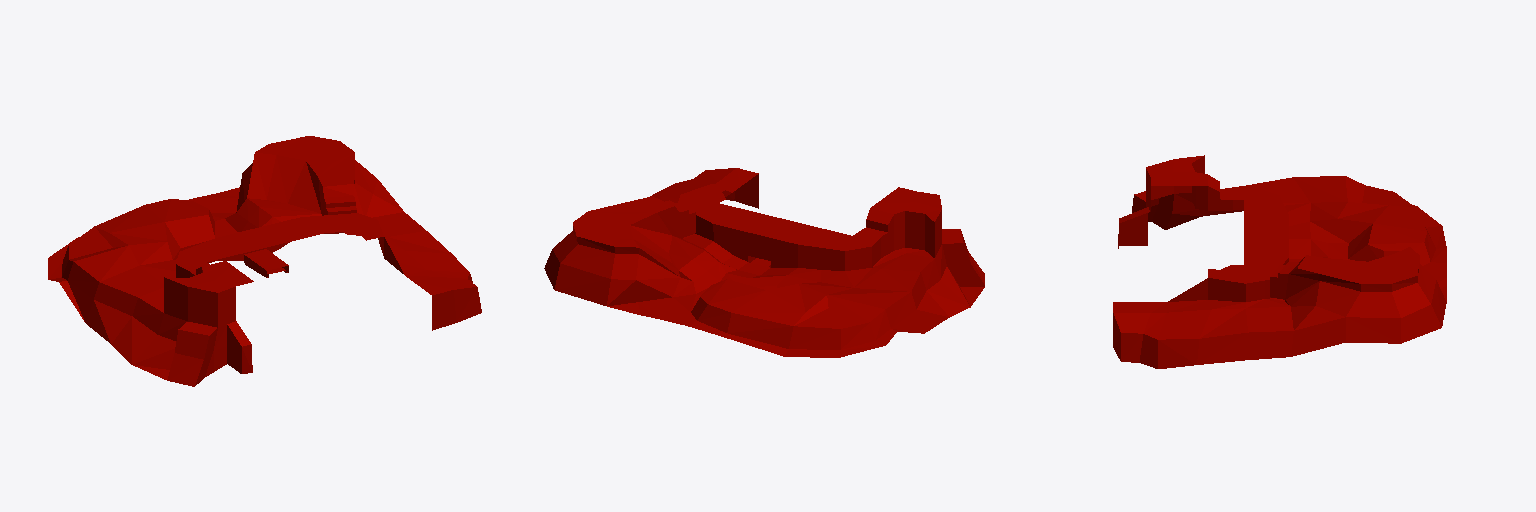
Rendered from mmap1.obj.
3 views of the same model, side by side, from view 1: azimuth 30°, elevation 25°; view 2: azimuth 150°, elevation 25°; view 3: azimuth 270°, elevation 25° (orthographic).
Parts seen in each view (by area): view 1: Cube_Cube.001; view 2: Cube_Cube.001; view 3: Cube_Cube.001.
Part boxes in pixels (left/top/right/bottom): Cube_Cube.001: left=48, top=136, right=481, bottom=386; Cube_Cube.001: left=544, top=168, right=984, bottom=357; Cube_Cube.001: left=1113, top=155, right=1446, bottom=368.
Bounding box in the file's own units: 1242 × 293 × 1098.